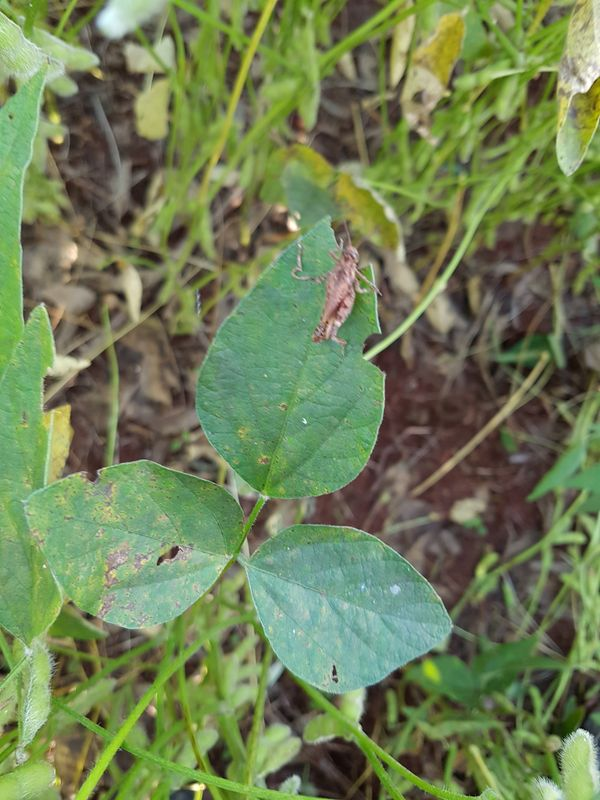Rhammatocerus_schistocercoides: (295, 219, 394, 362)
